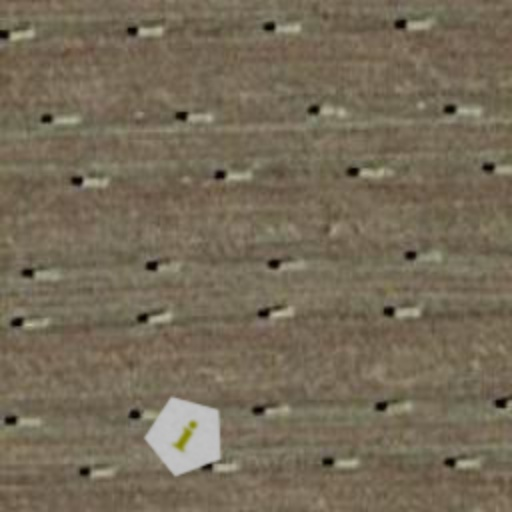pentagon: (126, 376, 246, 496)
